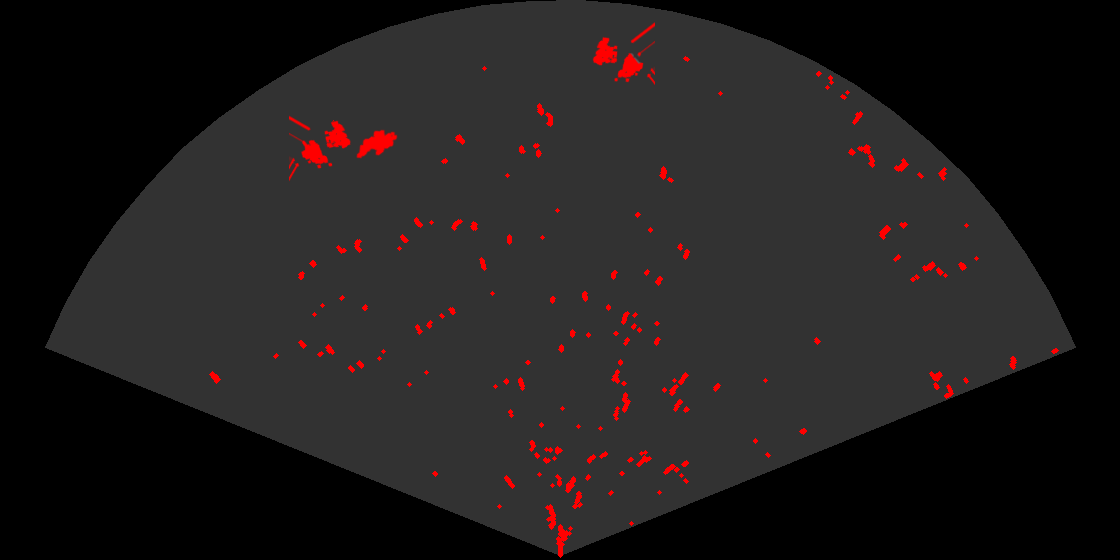AUV: (355, 128, 399, 160)
cage: (289, 114, 352, 183), (591, 21, 655, 87)
